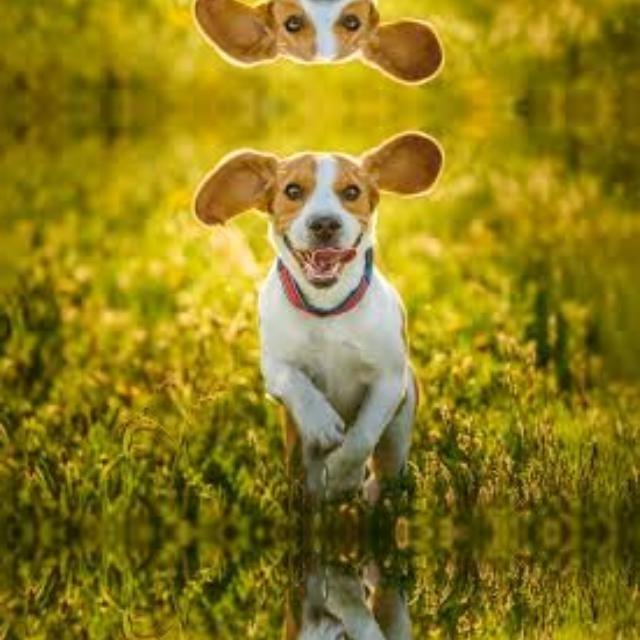dog: (190, 119, 430, 514), (191, 0, 430, 95), (191, 552, 430, 640)
